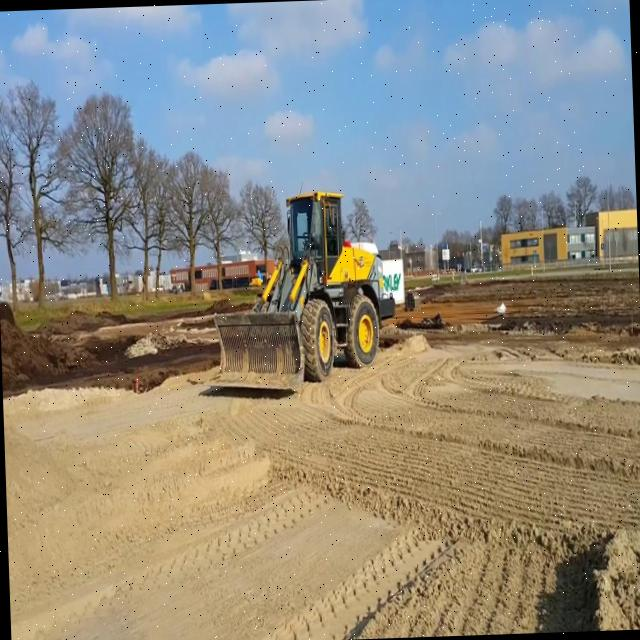Loader: (195, 187, 382, 396)
